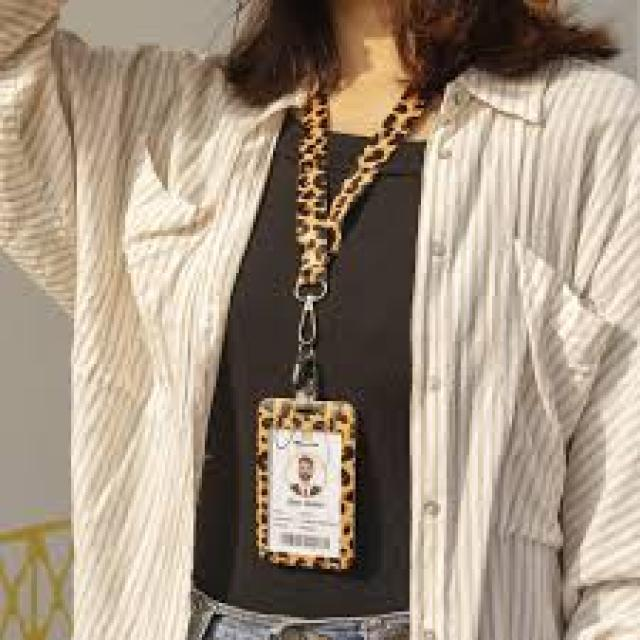id_card: (243, 89, 385, 577)
